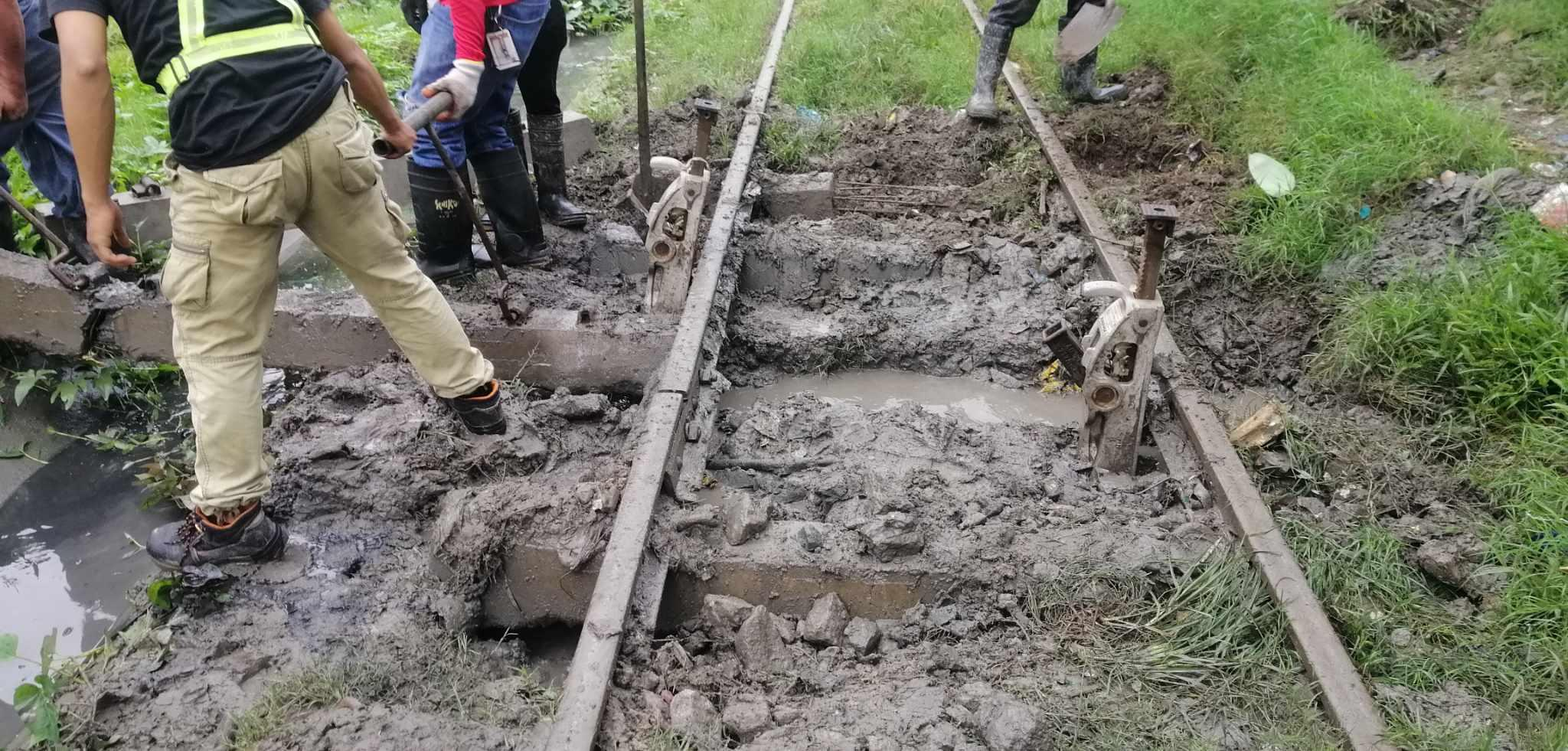railway-gap: (631, 355, 708, 429)
